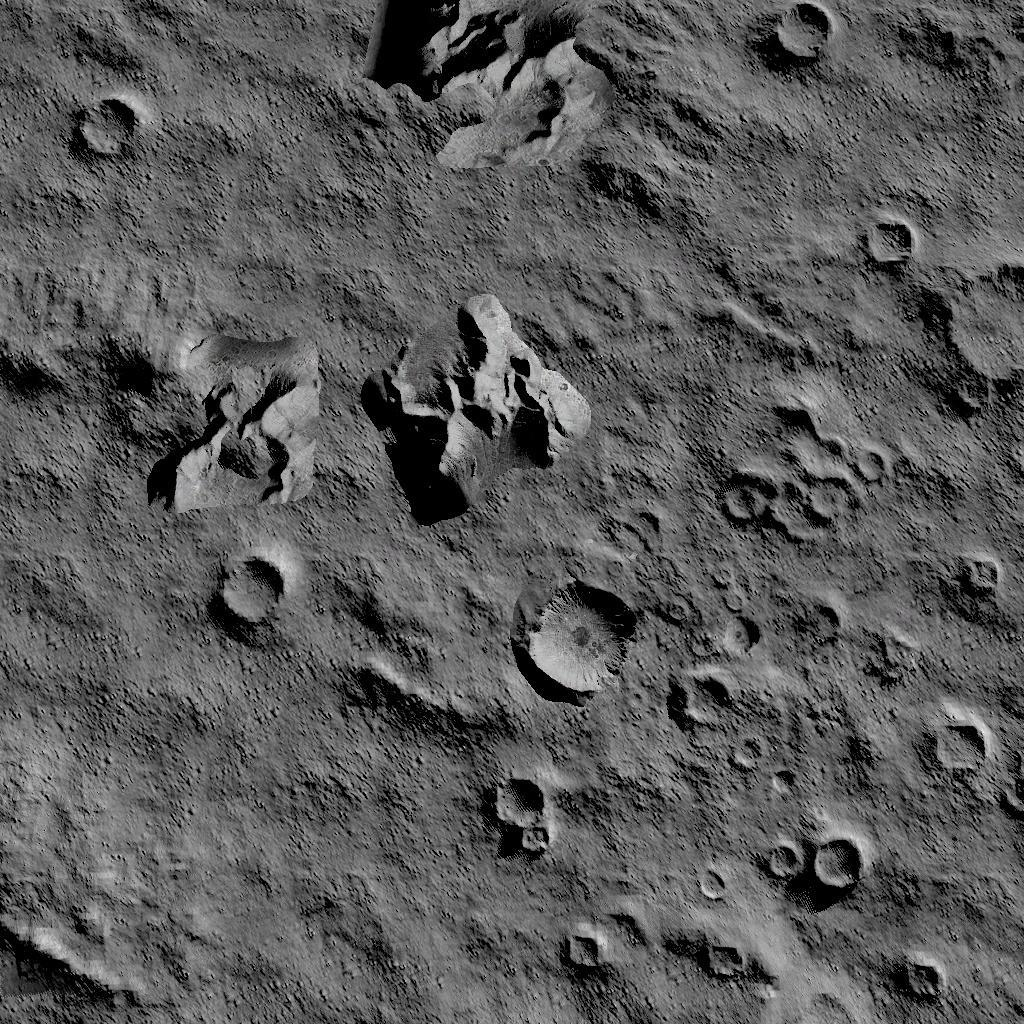Boulders: (364, 0, 718, 240), (0, 270, 323, 513), (364, 298, 590, 522), (333, 550, 503, 738), (0, 878, 153, 1024)
Crater: (718, 395, 888, 540), (521, 580, 633, 705), (943, 260, 1024, 428), (213, 548, 293, 636), (764, 835, 862, 903), (486, 770, 553, 863), (68, 90, 146, 165), (668, 662, 738, 728), (766, 0, 835, 65), (928, 715, 990, 780), (548, 920, 610, 978), (866, 210, 923, 273), (704, 928, 752, 986), (898, 958, 948, 1006)
Plan surface: (216, 750, 476, 1024), (0, 522, 201, 866), (164, 0, 350, 258)
